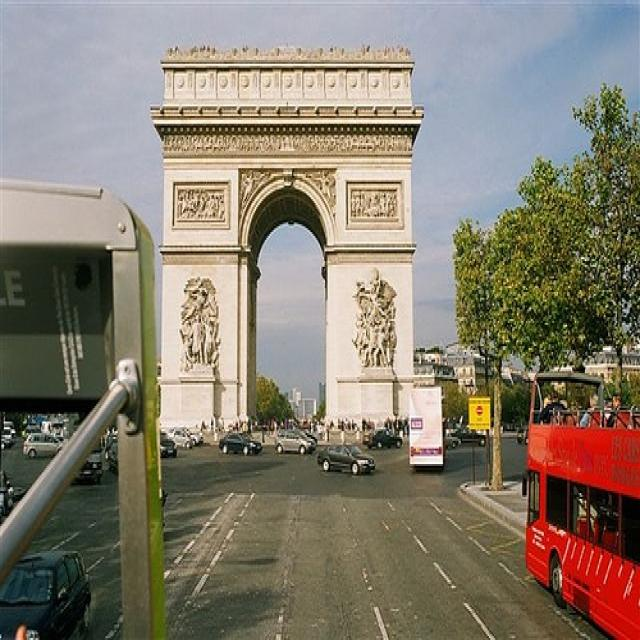bus: (525, 374, 640, 639)
car: (1, 546, 94, 639), (318, 444, 376, 477), (275, 431, 318, 458), (222, 431, 264, 458), (24, 432, 65, 459), (371, 430, 402, 450)
